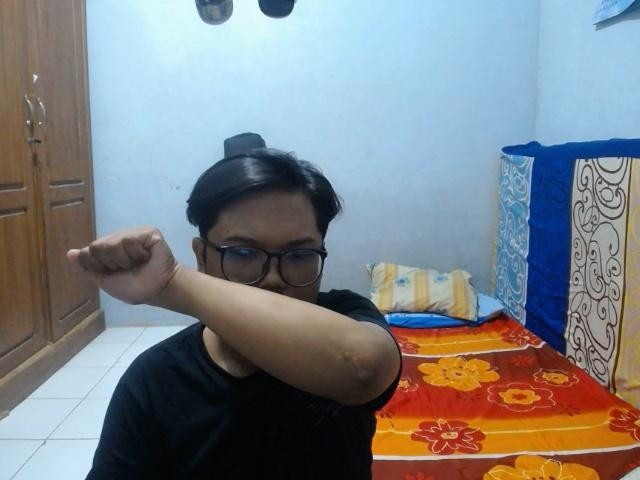Grab: (64, 218, 184, 313)
